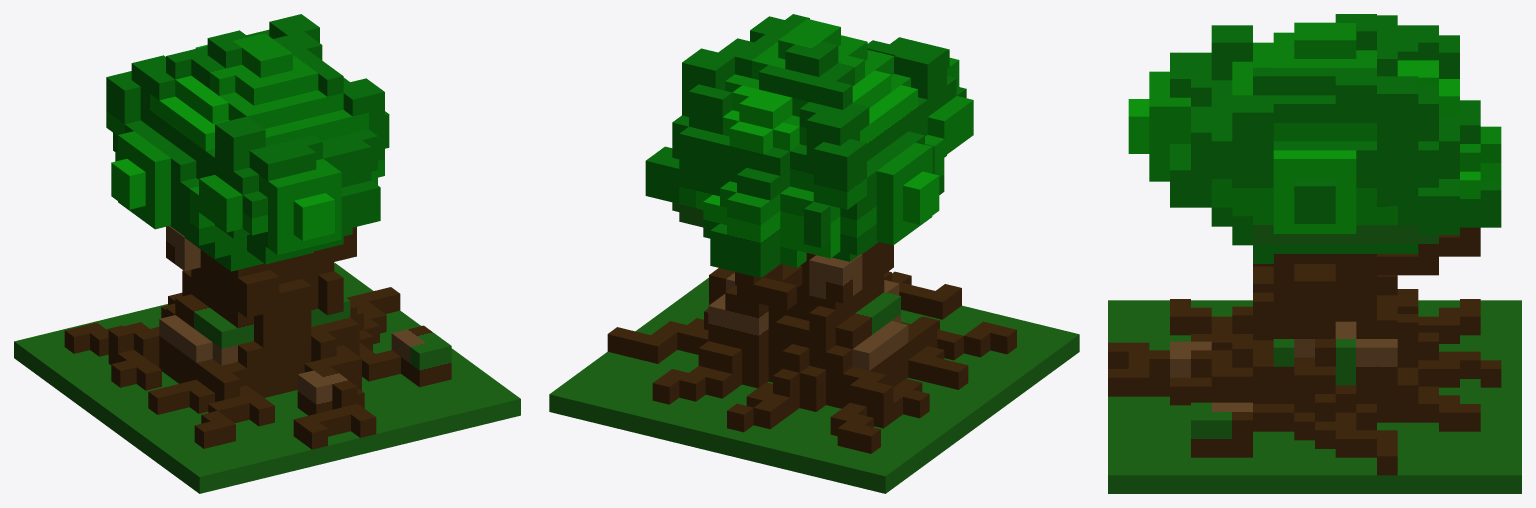
Rendered from Tree.dae.
3 views of the same model, side by side, from view 1: azimuth 30°, elevation 25°; view 2: azimuth 150°, elevation 25°; view 3: azimuth 270°, elevation 25° (orthographic). The views are drawn at different scales.
Visible parts, largest first — view 1: Tree; view 2: Tree; view 3: Tree.
Boxes of the visible parts, box(x1,y1,x2,y2) form: Tree: box(14, 14, 520, 493); Tree: box(549, 14, 1079, 493); Tree: box(1108, 14, 1521, 493).
Size of the model in its own units: 2 by 2 by 2.
